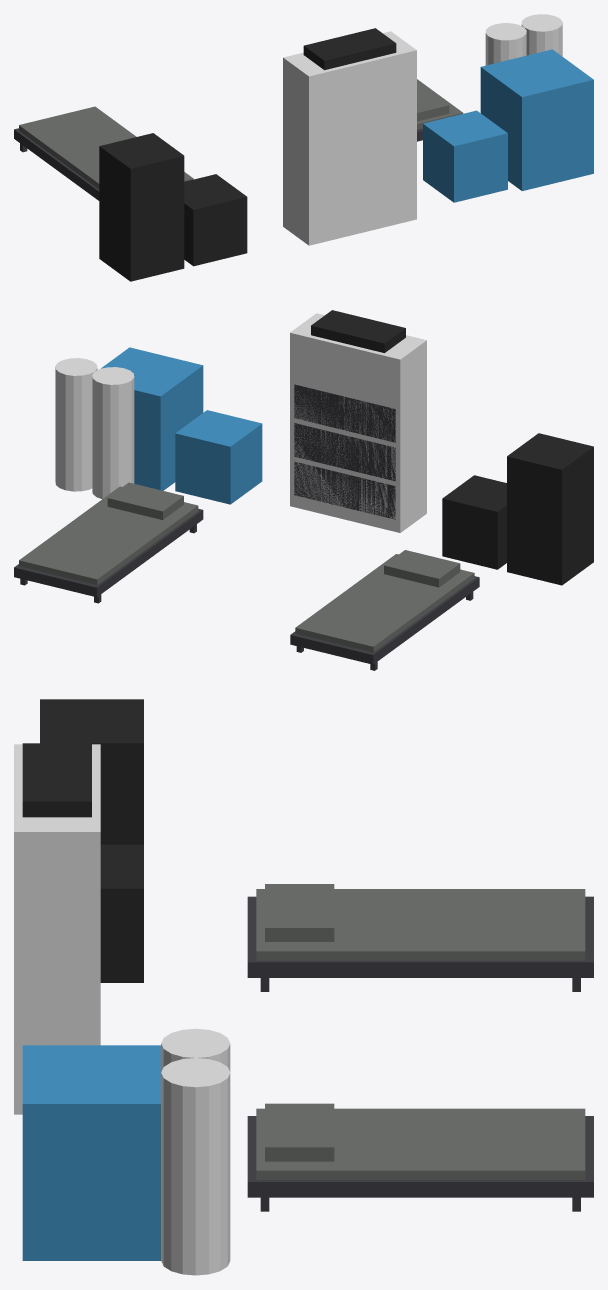
Rendered from shelter_interior_props.glb.
3 views of the same model, one above another, from view 1: azimuth 30°, elevation 25°; view 2: azimuth 150°, elevation 25°; view 3: azimuth 270°, elevation 25° (orthographic). The views are drawn at different scales.
Parts seen in each view (by area): view 1: Prop_MedCabinet, Prop_UtilCont_1, Prop_Crate_3, Prop_UtilCont_2, Prop_Cot_1, Prop_Crate_2, Prop_Crate_1, Prop_O2_1, Prop_O2_2, Prop_Cot_2; view 2: Prop_MedCabinet, Prop_Cot_1, Prop_Cot_2, Prop_UtilCont_1, Prop_UtilCont_2, Prop_Crate_3, Prop_Crate_2, Prop_O2_1, Prop_Crate_1, Prop_O2_2; view 3: Prop_Cot_2, Prop_Cot_1, Prop_UtilCont_1, Prop_MedCabinet, Prop_O2_2, Prop_Crate_3, Prop_Crate_2, Prop_O2_1.
Boxes of the visible parts, <box> form: Prop_MedCabinet: <box>283,28,416,245</box>; Prop_UtilCont_1: <box>480,49,593,191</box>; Prop_Crate_3: <box>99,133,184,225</box>; Prop_UtilCont_2: <box>423,110,507,202</box>; Prop_Cot_1: <box>14,106,193,200</box>; Prop_Crate_2: <box>184,174,247,266</box>; Prop_Crate_1: <box>99,202,184,281</box>; Prop_O2_1: <box>485,23,526,65</box>; Prop_O2_2: <box>521,14,562,56</box>; Prop_Cot_2: <box>417,79,463,141</box>; Prop_MedCabinet: <box>290,310,426,532</box>; Prop_Cot_1: <box>290,550,479,670</box>; Prop_Cot_2: <box>14,482,203,603</box>; Prop_UtilCont_1: <box>101,347,203,490</box>; Prop_UtilCont_2: <box>175,410,262,504</box>; Prop_Crate_3: <box>507,433,593,527</box>; Prop_Crate_2: <box>442,475,506,569</box>; Prop_O2_1: <box>92,367,134,499</box>; Prop_Crate_1: <box>507,504,593,585</box>; Prop_O2_2: <box>55,358,97,491</box>; Prop_Cot_2: <box>247,1103,593,1211</box>; Prop_Cot_1: <box>247,884,593,991</box>; Prop_UtilCont_1: <box>22,1045,160,1260</box>; Prop_MedCabinet: <box>14,743,100,1114</box>; Prop_O2_2: <box>161,1058,230,1275</box>; Prop_Crate_3: <box>40,699,143,837</box>; Prop_Crate_2: <box>100,844,143,982</box>; Prop_O2_1: <box>161,1028,230,1072</box>.
Size of the model in its own units: 5.3 by 1.9 by 3.35.
